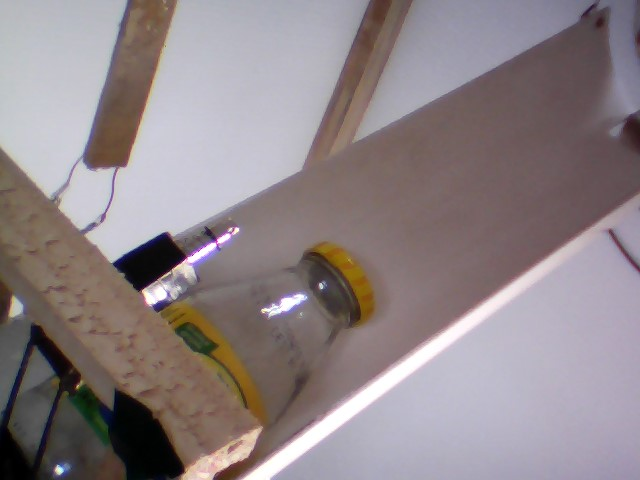vidrio: (176, 228, 383, 437)
